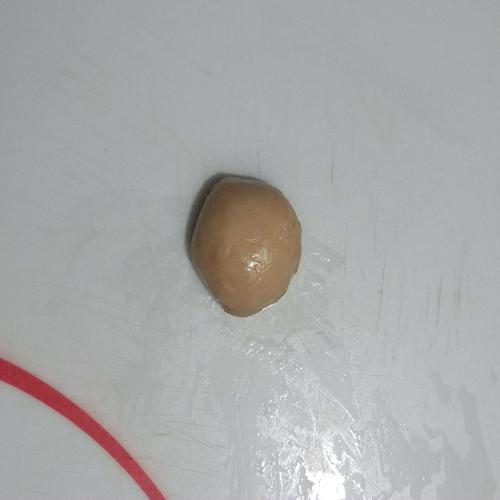Button Mushroom: (170, 165, 322, 331)
